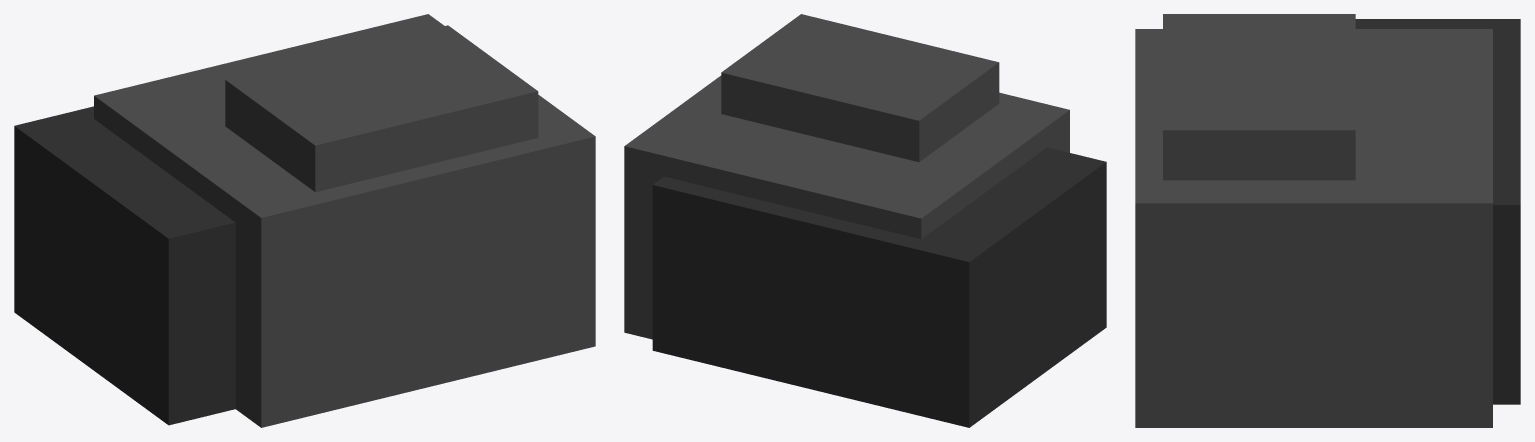
Rendered from Pedra1.obj.
The picture shows the model from 3 angles, left to right: view 1: azimuth 30°, elevation 25°; view 2: azimuth 150°, elevation 25°; view 3: azimuth 270°, elevation 25°; orthographic projection. The views are drawn at different scales.
Visible parts, largest first — view 1: Pedra1; view 2: Pedra1; view 3: Pedra1.
Part boxes in pixels (x1,y1,x2,y2): Pedra1: (14, 14, 595, 427); Pedra1: (624, 14, 1106, 427); Pedra1: (1135, 14, 1520, 427).
Bounding box in the file's own units: 18 × 11 × 14.
Materials: 1 (1 with a texture image).
